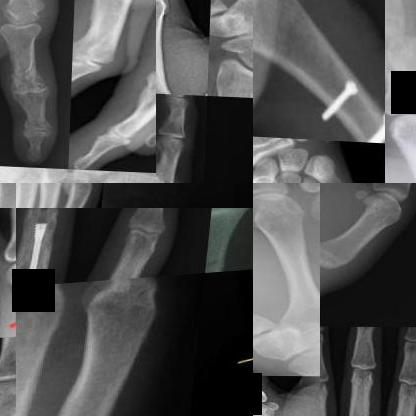fracture: (304, 54, 384, 141), (16, 214, 65, 289), (253, 300, 283, 351), (16, 365, 44, 415), (59, 183, 108, 208), (210, 245, 240, 276), (211, 0, 232, 22)
